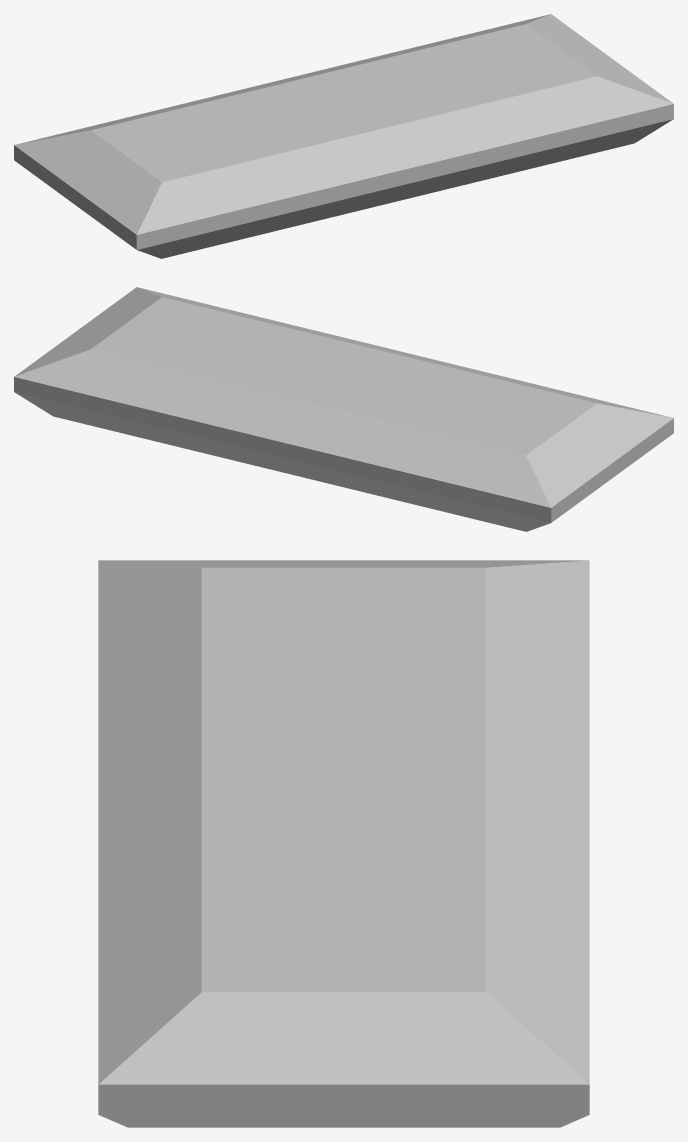
File: Itr_Wardrobe1_Top_06.FBX
3 renders of one model, top to bottom at view 1: azimuth 30°, elevation 25°; view 2: azimuth 150°, elevation 25°; view 3: azimuth 270°, elevation 25°, orthographic. The views are drawn at different scales.
Parts seen in each view (by area): view 1: Itr_Wardrobe1_Top_06; view 2: Itr_Wardrobe1_Top_06; view 3: Itr_Wardrobe1_Top_06.
Part boxes in pixels (box(x1,y1,x2,y2)): Itr_Wardrobe1_Top_06: box(14, 14, 673, 258); Itr_Wardrobe1_Top_06: box(14, 287, 673, 531); Itr_Wardrobe1_Top_06: box(98, 560, 589, 1127).
Size of the model in its own units: 50.57 by 5.25 by 20.02.
